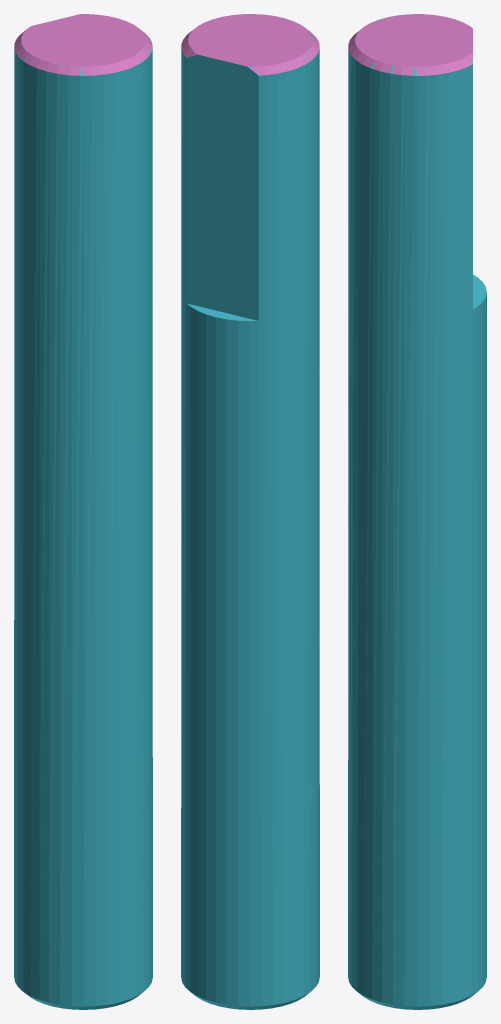
Rendered from Drive_Shaft_.dae.
3 views of the same model, side by side, from view 1: azimuth 30°, elevation 25°; view 2: azimuth 150°, elevation 25°; view 3: azimuth 270°, elevation 25° (orthographic).
Visible parts, largest first — view 1: Drive_Shaft; view 2: Drive_Shaft; view 3: Drive_Shaft.
Part boxes in pixels (x1=…): Drive_Shaft: x1=14, y1=14, x2=152, y2=1009; Drive_Shaft: x1=181, y1=14, x2=319, y2=1009; Drive_Shaft: x1=348, y1=14, x2=486, y2=1009.
Bounding box in the file's own units: 0.01 × 0.01 × 0.075.
